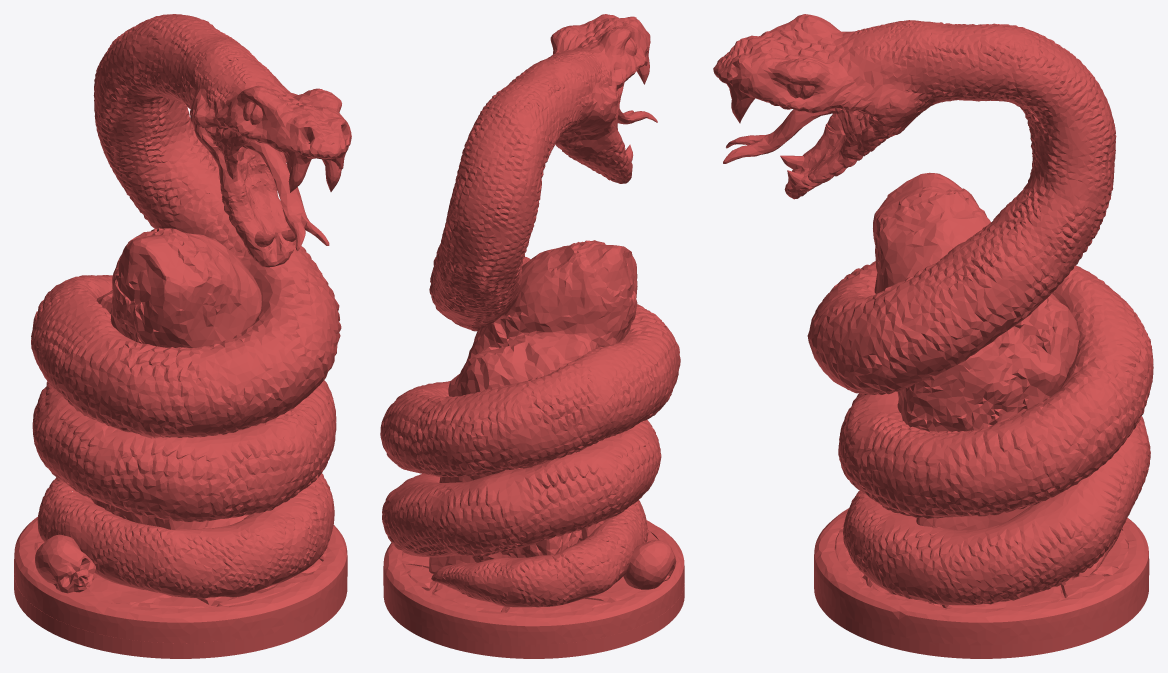
File: giant-snake.glb
The picture shows the model from 3 angles, left to right: view 1: azimuth 30°, elevation 25°; view 2: azimuth 150°, elevation 25°; view 3: azimuth 270°, elevation 25°; orthographic projection. The views are drawn at different scales.
Parts seen in each view (by area): view 1: snake; view 2: snake; view 3: snake.
Boxes of the visible parts, x1,y1,x2,y2 form: snake: [14, 14, 351, 658]; snake: [380, 14, 684, 658]; snake: [713, 14, 1153, 658].
Bounding box in the file's own units: 31.09 × 57.99 × 40.66.
